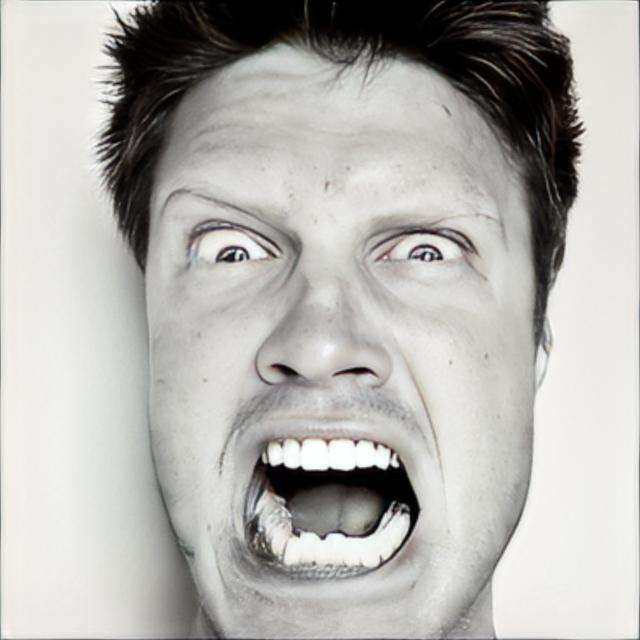fear: (144, 37, 537, 640)
